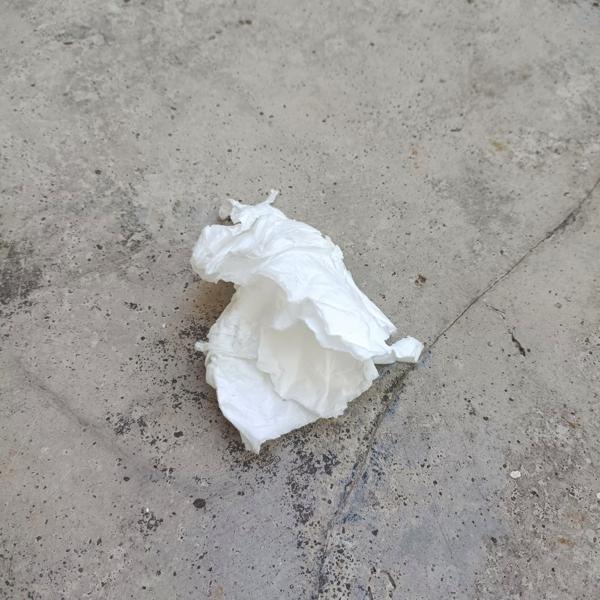Organik: (173, 172, 428, 485)
